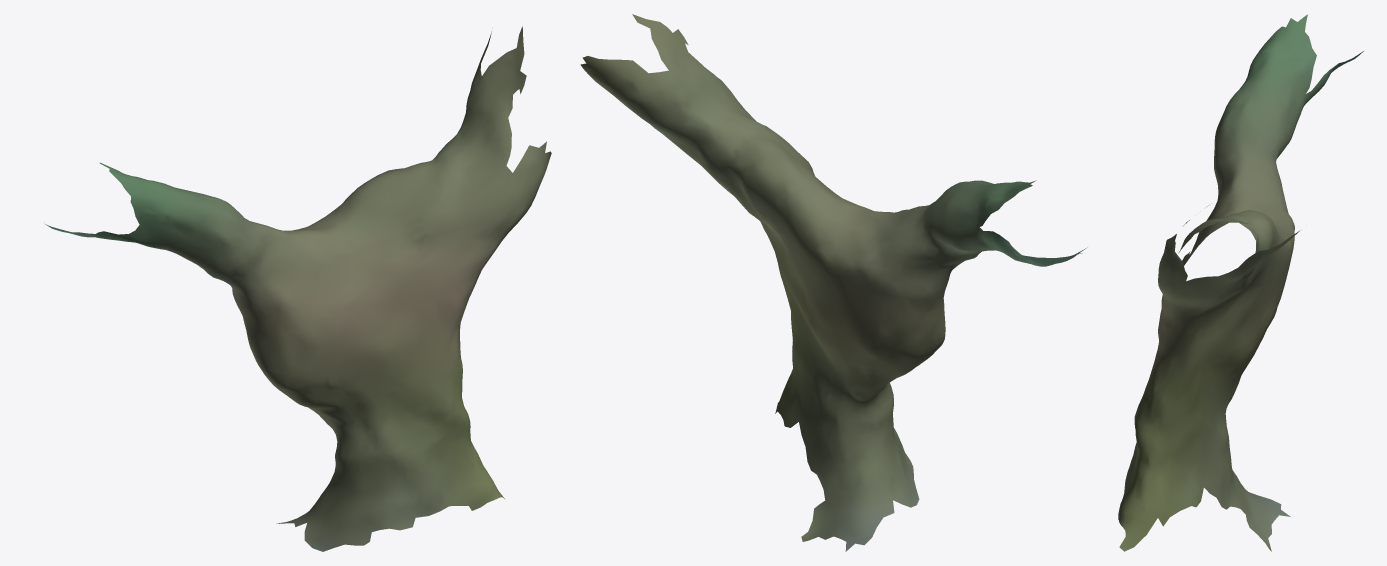
The model's file is LODS_Cloud_global_23.glb.
The picture shows the model from 3 angles, left to right: view 1: azimuth 30°, elevation 25°; view 2: azimuth 150°, elevation 25°; view 3: azimuth 270°, elevation 25°; orthographic projection. The views are drawn at different scales.
Parts seen in each view (by area): view 1: LOD0; view 2: LOD0; view 3: LOD0.
Part boxes in pixels (bbox=[...]): LOD0: bbox=[44, 26, 551, 551]; LOD0: bbox=[580, 14, 1087, 551]; LOD0: bbox=[1118, 14, 1363, 551].
Size of what is drawn, in the model's own units: 0.3271 by 0.2975 by 0.1467.
